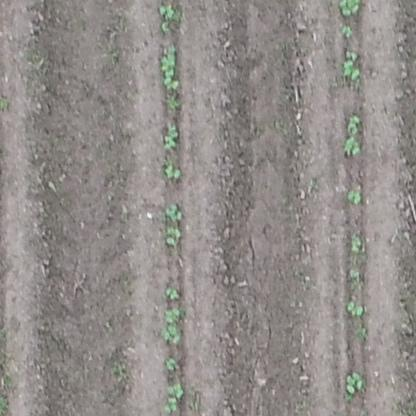vc: (160, 42, 180, 91), (161, 307, 183, 344), (340, 49, 364, 82), (344, 368, 368, 396), (342, 112, 366, 136), (336, 138, 364, 158), (343, 185, 365, 208), (162, 120, 179, 149), (348, 231, 368, 255), (162, 162, 185, 180), (165, 200, 184, 221), (345, 300, 368, 317), (156, 3, 178, 20), (164, 225, 181, 246), (164, 381, 186, 397), (162, 355, 180, 373), (159, 397, 178, 414), (336, 2, 362, 14), (347, 267, 362, 281), (164, 288, 183, 298), (342, 22, 352, 39)
